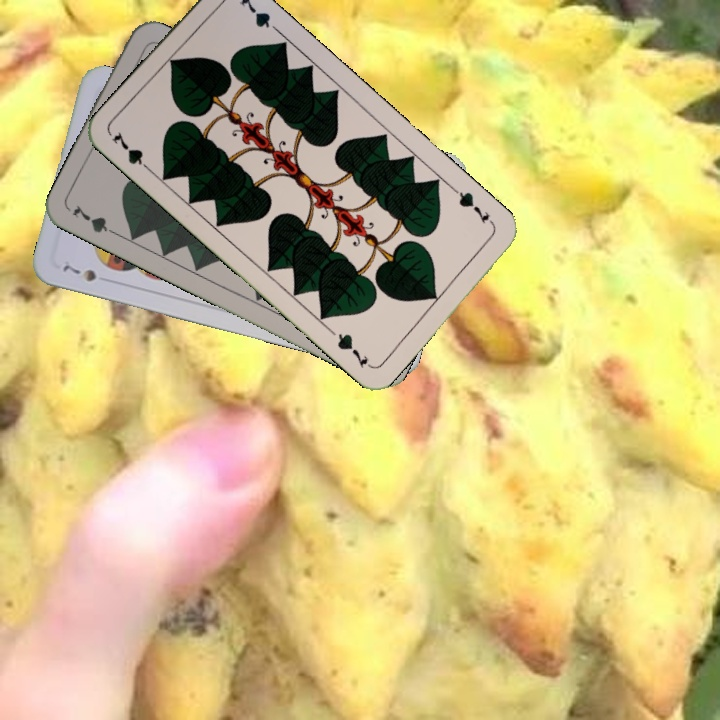G7: (108, 127, 156, 176), (68, 200, 123, 239), (449, 185, 497, 229)
S7: (58, 261, 99, 284)
